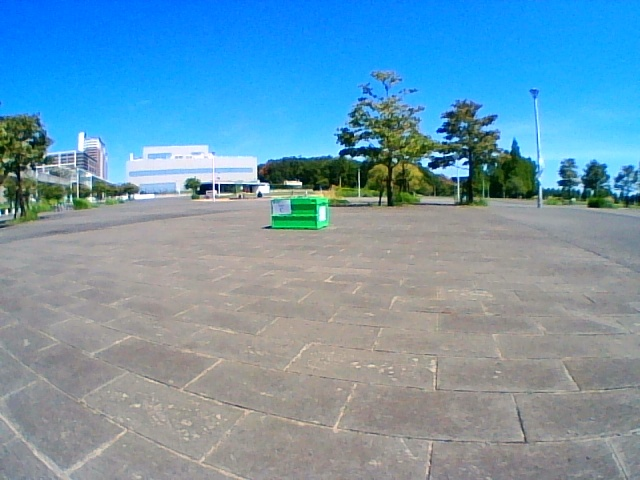green_box: (271, 198, 327, 229)
tag: (273, 200, 289, 214)
